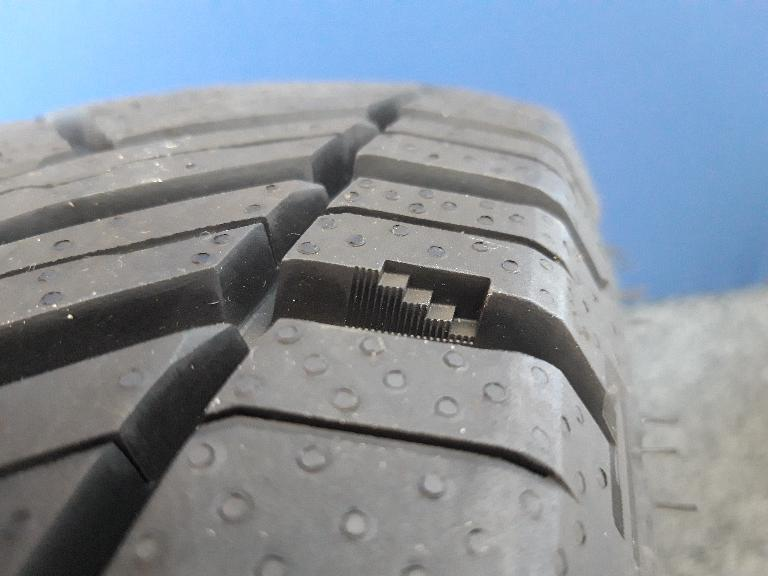temoin:100: (340, 253, 498, 354)
